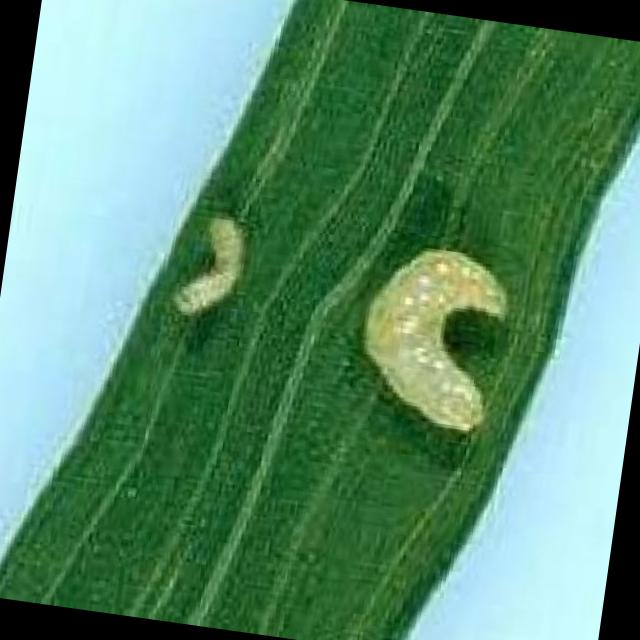whorl-maggot: (324, 211, 532, 445), (159, 180, 271, 338)
